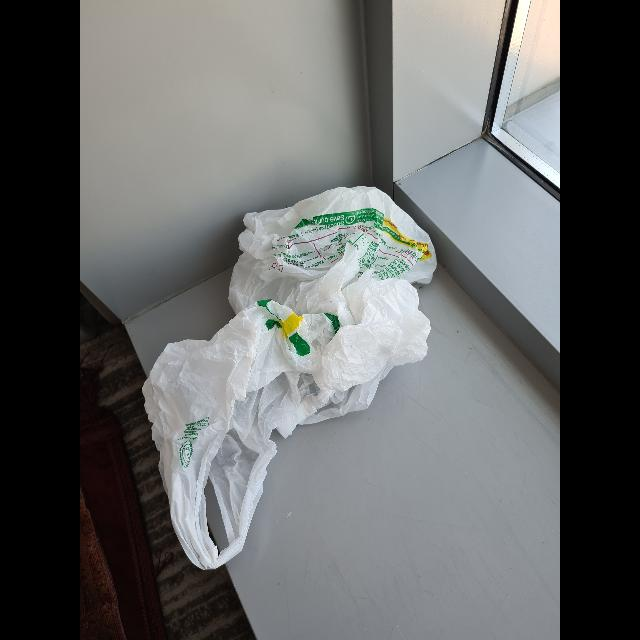plastic_bag: (150, 183, 436, 572)
